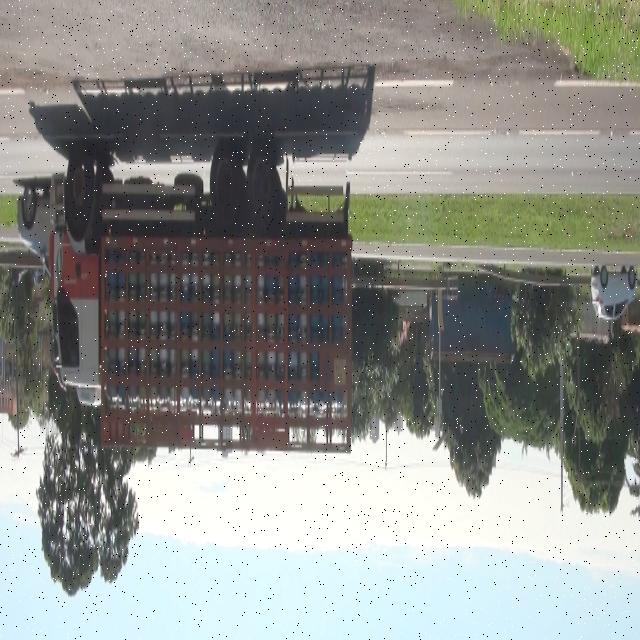-axle: (206, 137, 240, 233), (63, 143, 97, 234), (248, 148, 276, 232)
